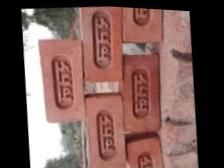brick: (33, 34, 88, 125), (78, 5, 128, 84), (117, 50, 164, 134), (81, 90, 128, 168), (120, 7, 167, 45), (123, 134, 166, 168)
